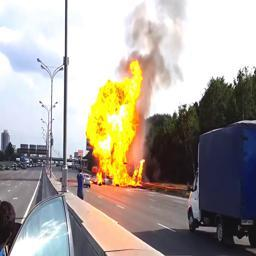fire: (88, 57, 145, 187)
